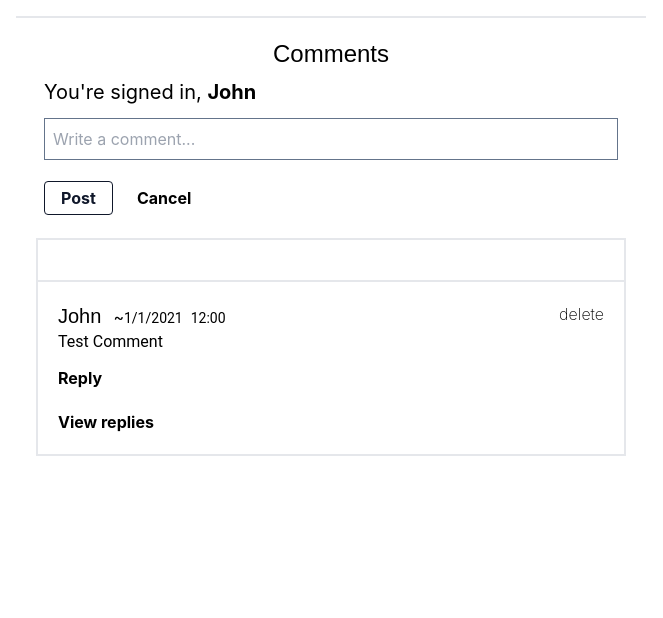
Test: comment section › replies › renders error message if fetch request fails
Click the button "Reply". click: [80, 378]
box: [58,366,102,390]
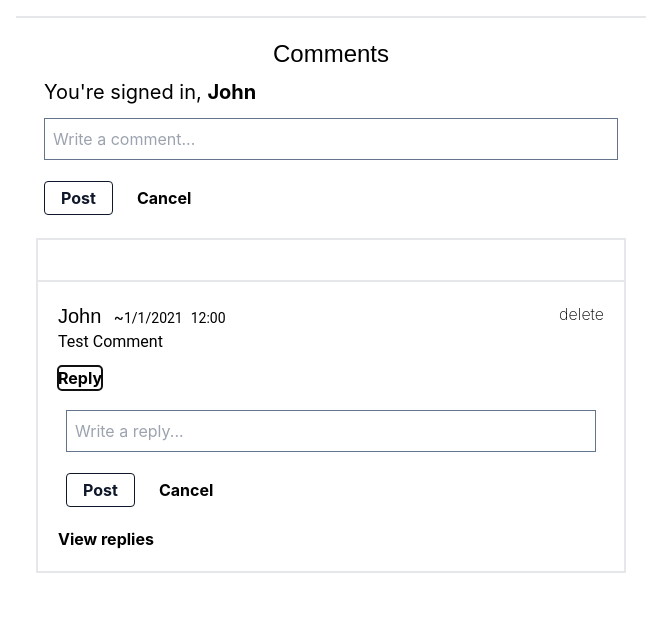
Type "Test Reply" into the text box with placeholder "Write a reply...". click: [331, 431]
box: [66,410,596,452]
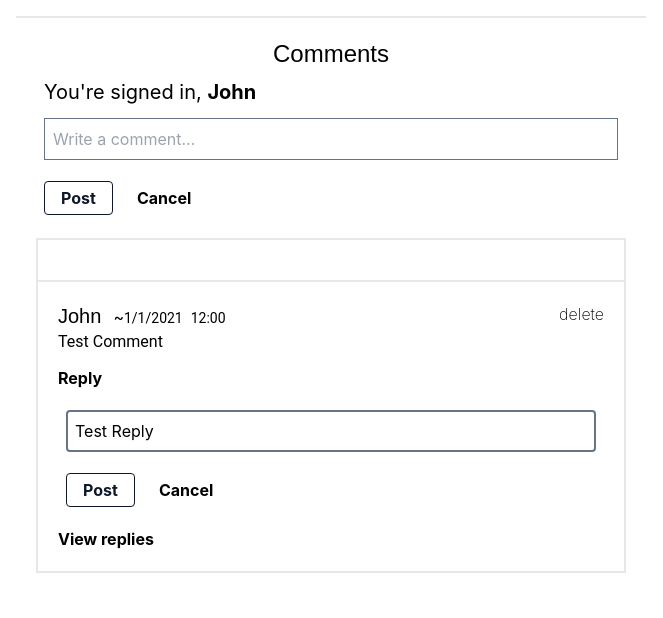
Click the button with test id "post-reply-button". click: [100, 490]
box: [66,473,135,507]
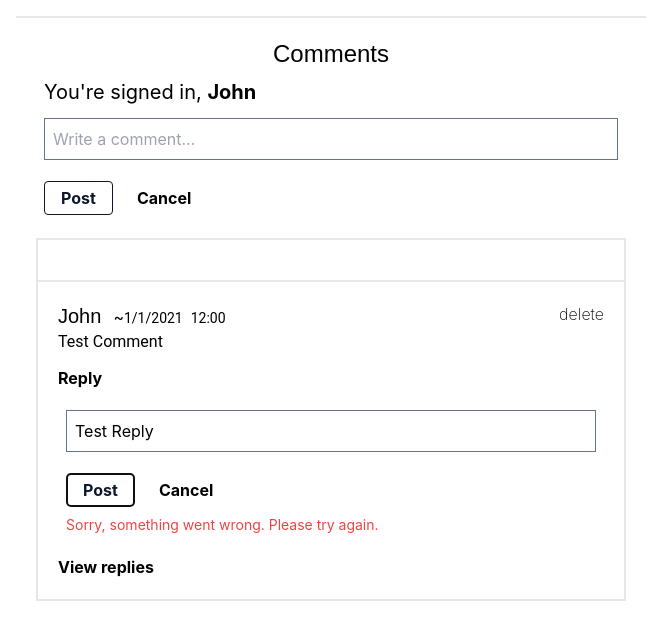
Result: the text "Sorry, something went wrong. Please try again." is shown at [66,516,379,533]
